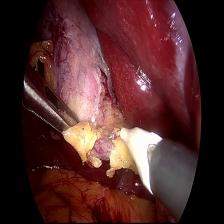Grasper: (20, 60, 83, 144)
Hook: (113, 125, 166, 197)
